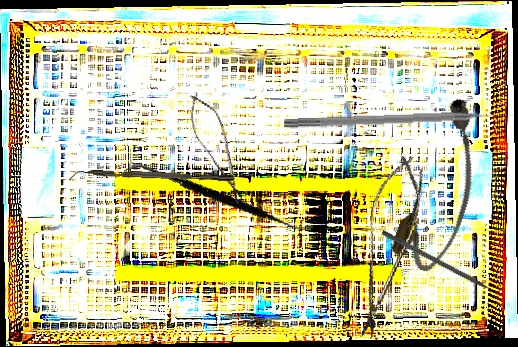Cannula: (387, 92, 500, 278)
Chopper: (68, 166, 234, 190)
Hook Surgical: (380, 229, 509, 302)
Micro Scissor: (345, 150, 430, 344), (179, 86, 255, 209)
Pusher: (283, 110, 514, 131)
Spatula Surgical: (123, 131, 314, 266)
